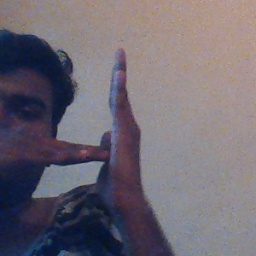Z: (44, 41, 149, 214)
